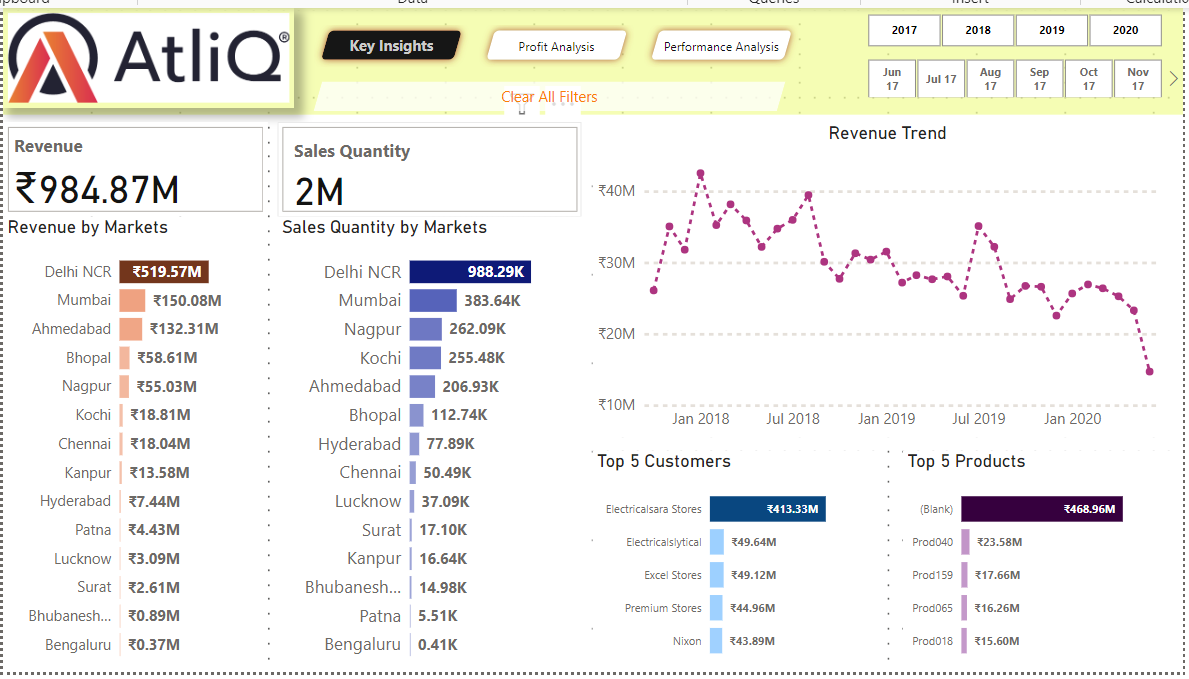

Layout of this report page (visuals, bound fields, positions):
{"tool":"powerbi","page":{"name":"Key Insights","canvas":[1280,720],"ordinal":0},"visuals":[{"type":"shape","box":[0,0,1280,115.7],"z":0},{"type":"image","title":"Company_Logo","box":[0,0,315.7,108.6],"z":1000},{"type":"pageNavigator","box":[336,16,528,48],"z":2000},{"type":"cardVisual","fields":{"Data":["Base_Measures.Revenue"]},"box":[0,122.9,287.1,102.9],"z":3000},{"type":"cardVisual","fields":{"Data":["Base_Measures.Sales Quantity"]},"box":[298.6,122.9,330,102.9],"z":4000},{"type":"barChart","title":"Revenue by Markets","fields":{"Y":["Base_Measures.Revenue"],"Category":["sales markets.markets_name"]},"box":[0,225.7,287.1,494.3],"z":5000},{"type":"barChart","title":"Sales Quantity by Markets","fields":{"Category":["sales markets.markets_name"],"Y":["Base_Measures.Sales Quantity"]},"box":[298.6,225.7,330,494.3],"z":6000},{"type":"slicer","fields":{"Values":["sales date.year"]},"box":[912,0,368,48],"z":7000},{"type":"slicer","fields":{"Values":["sales date.cy_date"]},"box":[912,48,368,48],"z":8000},{"type":"lineChart","title":"Revenue Trend","fields":{"Y":["Base_Measures.Revenue"],"Category":["sales date.cy_date"]},"box":[640,122.9,640,342.9],"z":9000},{"type":"barChart","title":"Top 5 Customers","fields":{"Y":["Base_Measures.Revenue"],"Category":["sales customers.custmer_name"]},"box":[640,480,320,240],"z":10000},{"type":"barChart","title":"Top 5 Products","fields":{"Y":["Base_Measures.Revenue"],"Category":["sales products.product_code"]},"box":[976,480,304,240],"z":11000},{"type":"actionButton","box":[336,80,512,32],"z":12000}]}

Visuals, with their boxes on the page's 1280x720 design canvas (x1, y1, x2, y2). These are canvas units, not pixel positions in the 1189x679 screenshot, which may show the page scaled, cropped or inside an application window:
shape: bbox(0, 0, 1280, 116)
"Company_Logo" image: bbox(0, 0, 316, 109)
pageNavigator: bbox(336, 16, 864, 64)
cardVisual - Base_Measures.Revenue: bbox(0, 123, 287, 226)
cardVisual - Base_Measures.Sales Quantity: bbox(299, 123, 629, 226)
"Revenue by Markets" barChart: bbox(0, 226, 287, 720)
"Sales Quantity by Markets" barChart: bbox(299, 226, 629, 720)
slicer - sales date.year: bbox(912, 0, 1280, 48)
slicer - sales date.cy_date: bbox(912, 48, 1280, 96)
"Revenue Trend" lineChart: bbox(640, 123, 1280, 466)
"Top 5 Customers" barChart: bbox(640, 480, 960, 720)
"Top 5 Products" barChart: bbox(976, 480, 1280, 720)
actionButton: bbox(336, 80, 848, 112)
